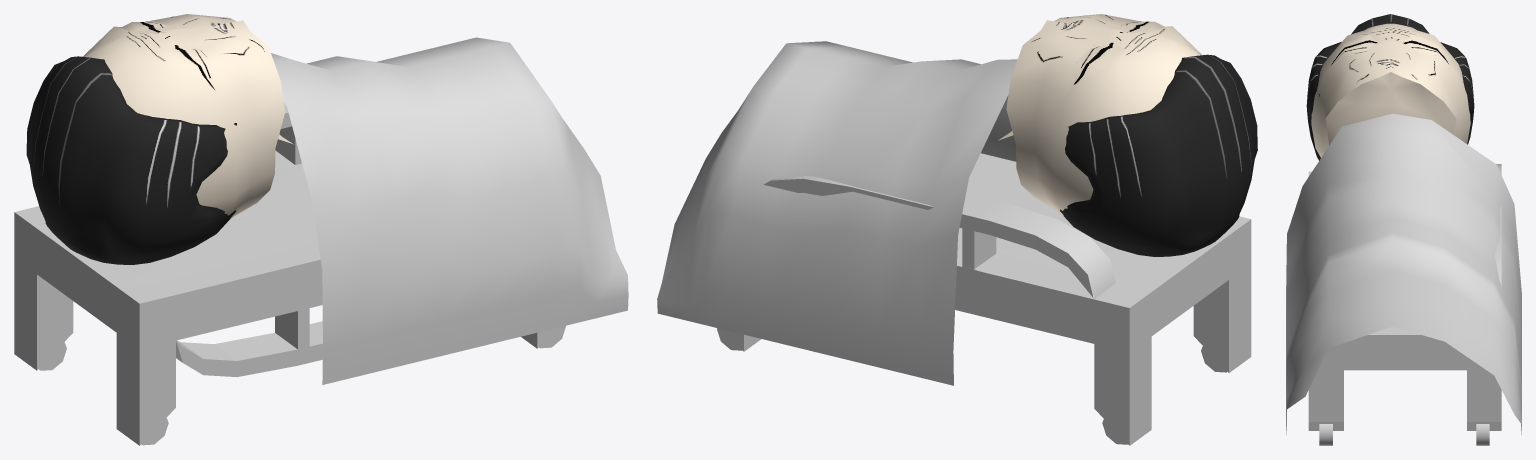
Rendered from Corleone.FBX.
3 views of the same model, side by side, from view 1: azimuth 30°, elevation 25°; view 2: azimuth 150°, elevation 25°; view 3: azimuth 270°, elevation 25° (orthographic). The views are drawn at different scales.
Parts seen in each view (by area): view 1: Plane002, Box003, cheveux, Corleone; view 2: Plane002, Box003, cheveux, Corleone; view 3: Plane002, Corleone, Box003, cheveux.
Boxes of the visible parts, <box> form: Plane002: <box>271,37,628,384</box>; Box003: <box>14,103,565,445</box>; cheveux: <box>26,56,236,264</box>; Corleone: <box>83,14,304,219</box>; Plane002: <box>657,41,1017,385</box>; Box003: <box>717,153,1251,445</box>; cheveux: <box>1060,54,1257,256</box>; Corleone: <box>998,14,1202,215</box>; Plane002: <box>1286,113,1521,434</box>; Corleone: <box>1311,23,1470,157</box>; Box003: <box>1308,164,1501,445</box>; cheveux: <box>1306,14,1474,160</box>.
Bounding box in the file's own units: 275 × 185 × 140.
